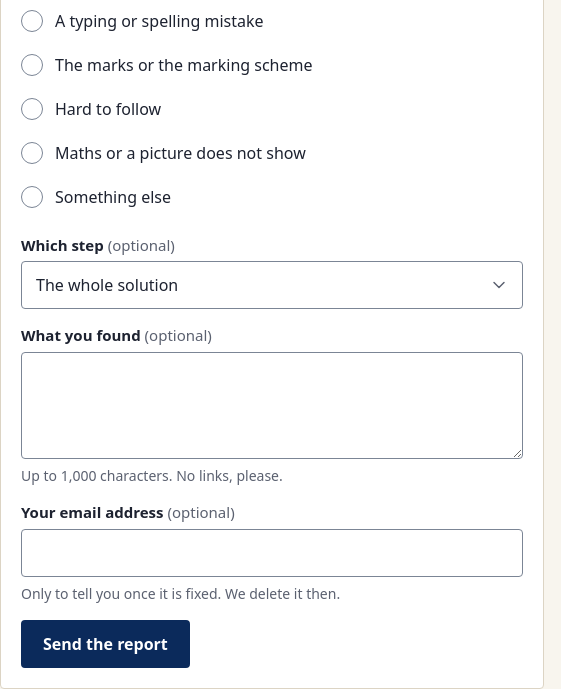
Scenario: ReportMistake › asks what is wrong before sending anything
(page scrolled)
Click the button "Send the report". click: (105, 644)
box: [21, 620, 190, 668]
(page scrolled)
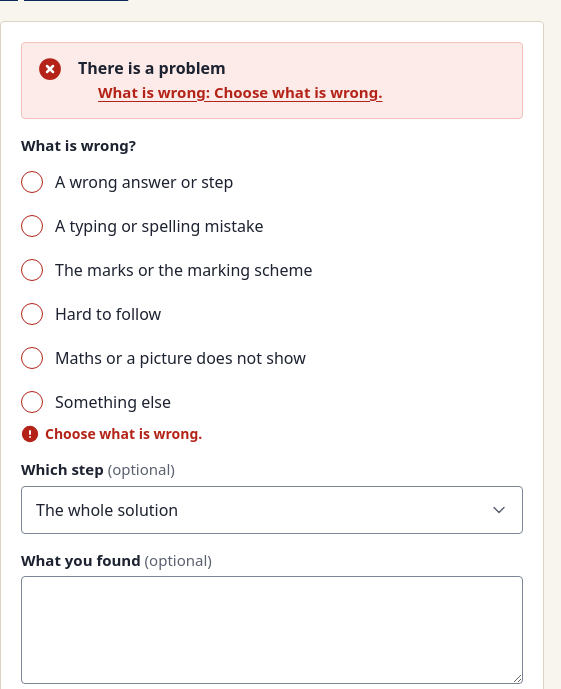
Now the link "What is wrong: Choose what is wrong." is shown, box [98, 82, 382, 102]
